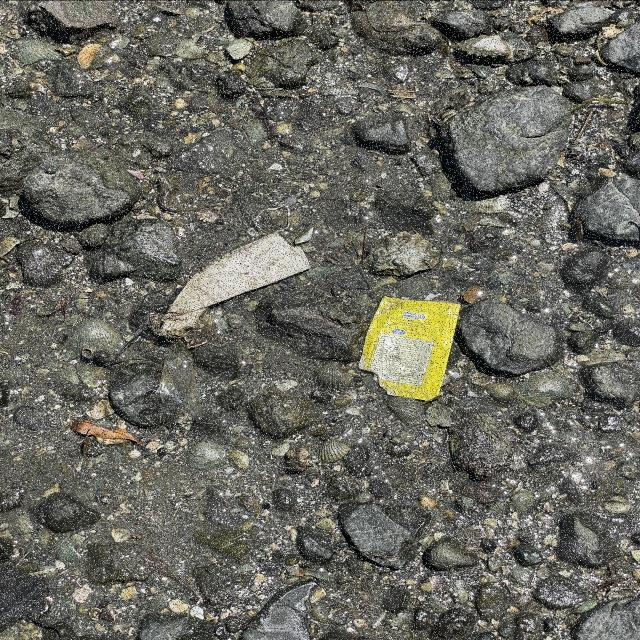plastic_waste: (361, 297, 463, 402)
